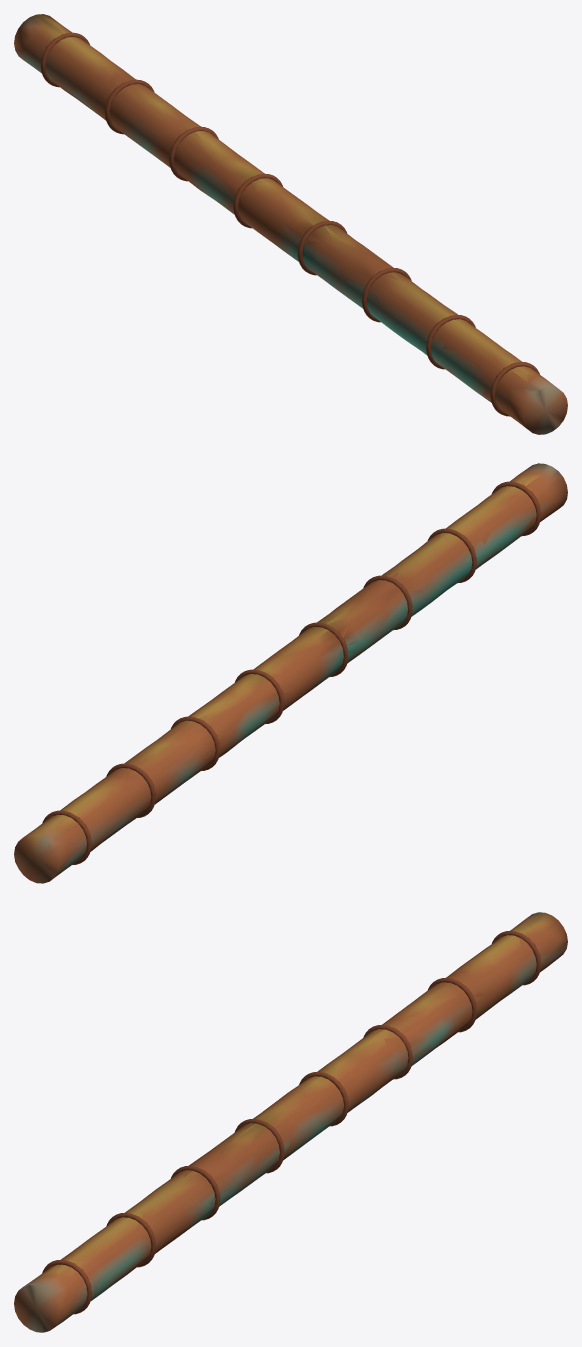
The model's file is grotto_copper_pipe_lod1.glb.
3 views of the same model, one above another, from view 1: azimuth 30°, elevation 25°; view 2: azimuth 150°, elevation 25°; view 3: azimuth 330°, elevation 25° (orthographic).
Parts seen in each view (by area): view 1: grotto_copper_pipe.001; view 2: grotto_copper_pipe.001; view 3: grotto_copper_pipe.001.
Part boxes in pixels (x1,y1,x2,y2): grotto_copper_pipe.001: [14, 14, 567, 434]; grotto_copper_pipe.001: [14, 463, 567, 883]; grotto_copper_pipe.001: [14, 912, 567, 1332].
Bounding box in the file's own units: 2.96 × 2.96 × 51.22.
